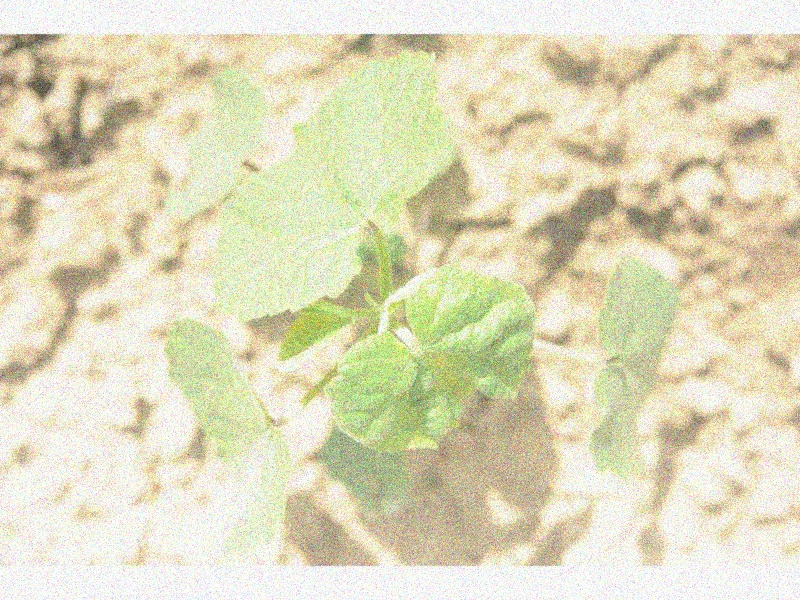velvet: (166, 46, 682, 551)
